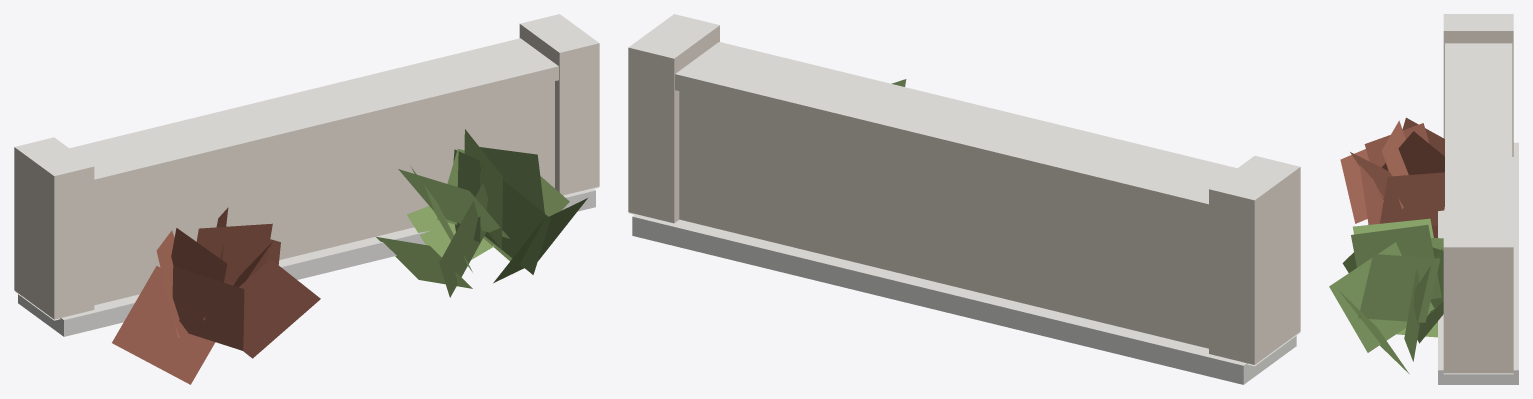
The model's file is Cover_Low_Wall.fbx.
The picture shows the model from 3 angles, left to right: view 1: azimuth 30°, elevation 25°; view 2: azimuth 150°, elevation 25°; view 3: azimuth 270°, elevation 25°; orthographic projection. The views are drawn at different scales.
Parts seen in each view (by area): view 1: Cover_Low_Wall; view 2: Cover_Low_Wall; view 3: Cover_Low_Wall.
Boxes of the visible parts, x1=… form: Cover_Low_Wall: x1=14, y1=14, x2=599, y2=384; Cover_Low_Wall: x1=628, y1=14, x2=1300, y2=384; Cover_Low_Wall: x1=1329, y1=14, x2=1518, y2=384.
Bounding box in the file's own units: 4.1 × 1.53 × 1.41.
